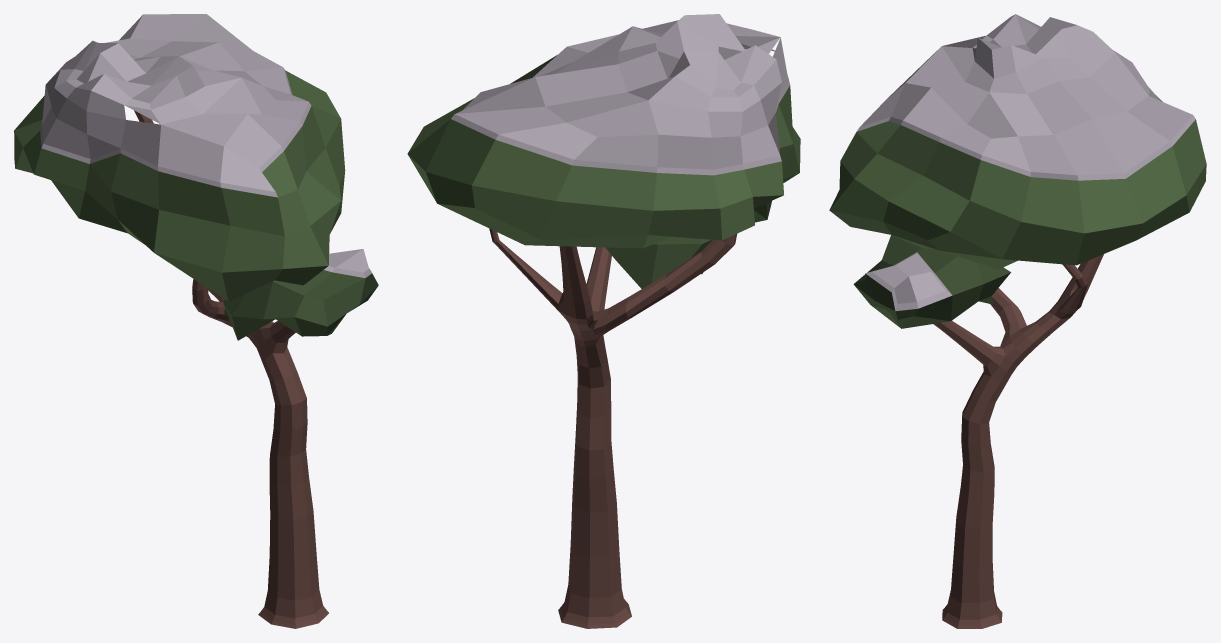
File: commontree_snow4.glb
3 views of the same model, side by side, from view 1: azimuth 30°, elevation 25°; view 2: azimuth 150°, elevation 25°; view 3: azimuth 270°, elevation 25° (orthographic). The views are drawn at different scales.
Parts seen in each view (by area): view 1: CommonTree_Snow_4; view 2: CommonTree_Snow_4; view 3: CommonTree_Snow_4.
Part boxes in pixels (<box>): CommonTree_Snow_4: <box>14,14,378,628</box>; CommonTree_Snow_4: <box>407,14,800,628</box>; CommonTree_Snow_4: <box>829,14,1206,628</box>.
Size of the model in its own units: 1.58 by 2.8 by 1.8.
